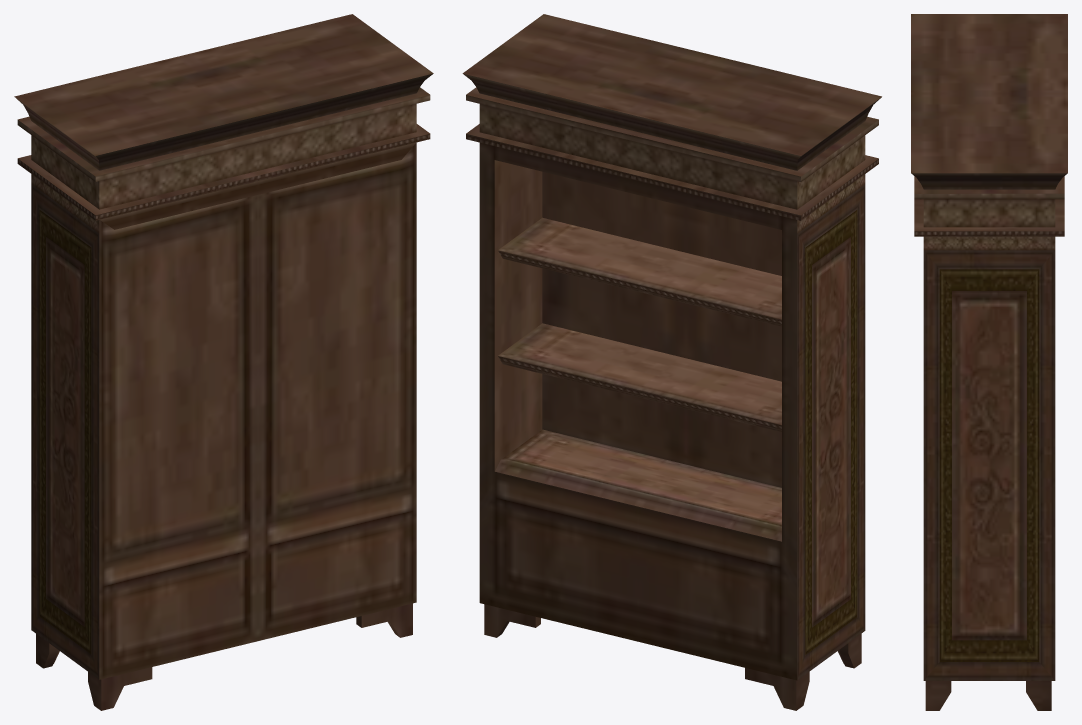
File: o_mdl_env_propFurnitureShelfB-transformed.glb
3 renders of one model, left to right at view 1: azimuth 30°, elevation 25°; view 2: azimuth 150°, elevation 25°; view 3: azimuth 270°, elevation 25°, orthographic. The views are drawn at different scales.
Visible parts, largest first — view 1: default; view 2: default; view 3: default.
Boxes of the visible parts, <box> form: default: <box>14,14,433,710</box>; default: <box>462,14,881,710</box>; default: <box>911,14,1067,710</box>.
Size of the model in its own units: 1.53 by 2.43 by 0.6357.
Materials: 1 (1 with a texture image).
